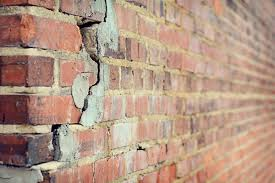stairstep_crack: (33, 0, 109, 182)
